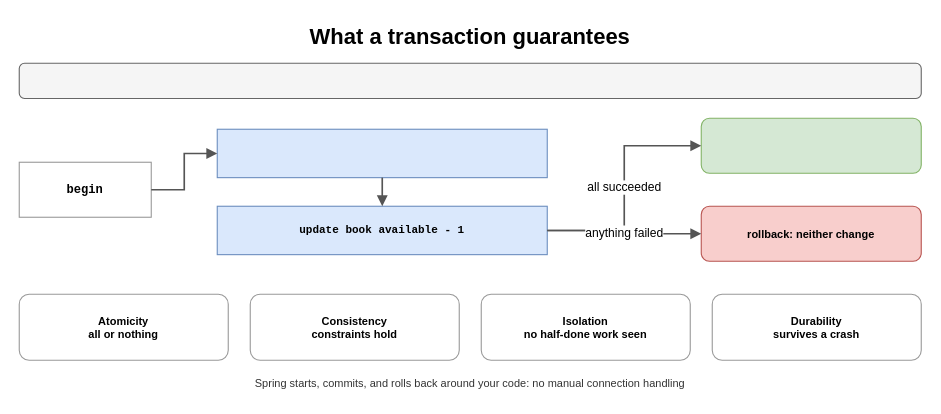
Image size: 941x414. Some labels were removed from this diagram. Here are the shapes that lost their labels. From the top down, the centre of each, then its label:
At [469,80]: "Several changes complete entirely or not at all".
At [381,153]: "insert into loan (7, 42)".
At [810,145]: "commit: both changes".
